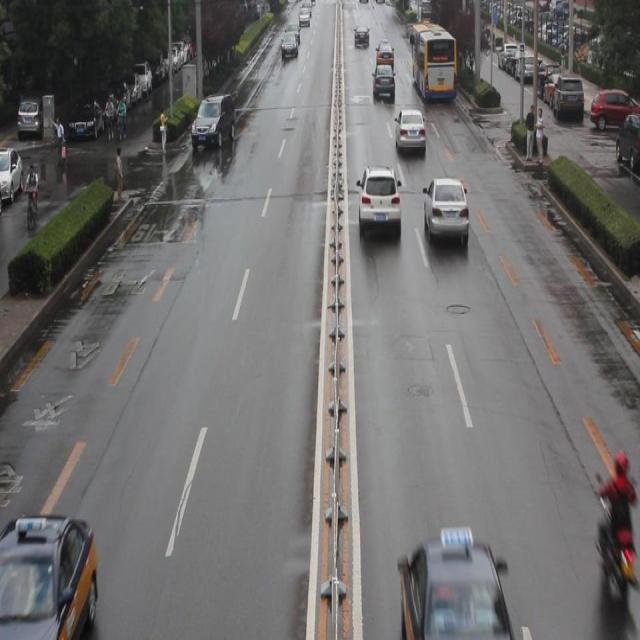car: (400, 526, 514, 640), (0, 507, 96, 628), (357, 166, 400, 237), (423, 178, 467, 244), (394, 106, 426, 158)
truck: (192, 94, 233, 148)
